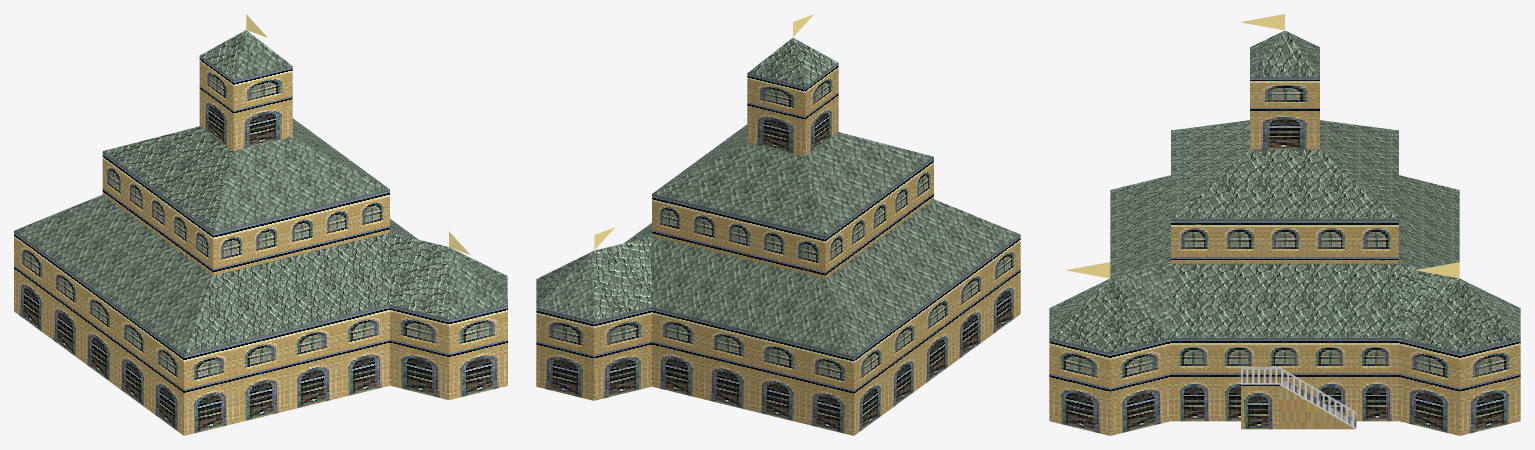
Rendered from uvmd-0011.glb.
3 renders of one model, left to right at view 1: azimuth 30°, elevation 25°; view 2: azimuth 150°, elevation 25°; view 3: azimuth 270°, elevation 25°, orthographic. The views are drawn at different scales.
Visible parts, largest first — view 1: uvmd-0011; view 2: uvmd-0011; view 3: uvmd-0011.
Boxes of the visible parts, x1,y1,x2,y2 form: uvmd-0011: [14, 14, 507, 435]; uvmd-0011: [536, 14, 1020, 435]; uvmd-0011: [1049, 14, 1520, 435].
Bounding box in the file's own units: 297 × 284 × 364.
5 materials, 5 textured.
